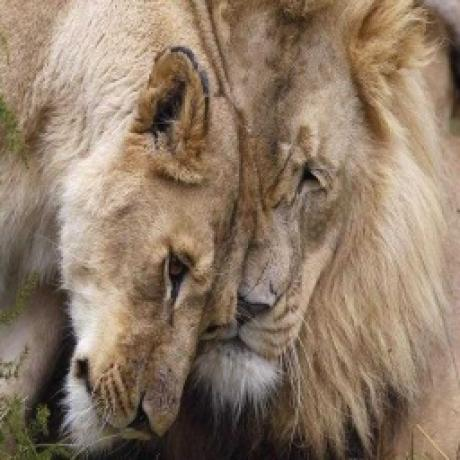Lion: (199, 0, 460, 460), (0, 0, 241, 453)
